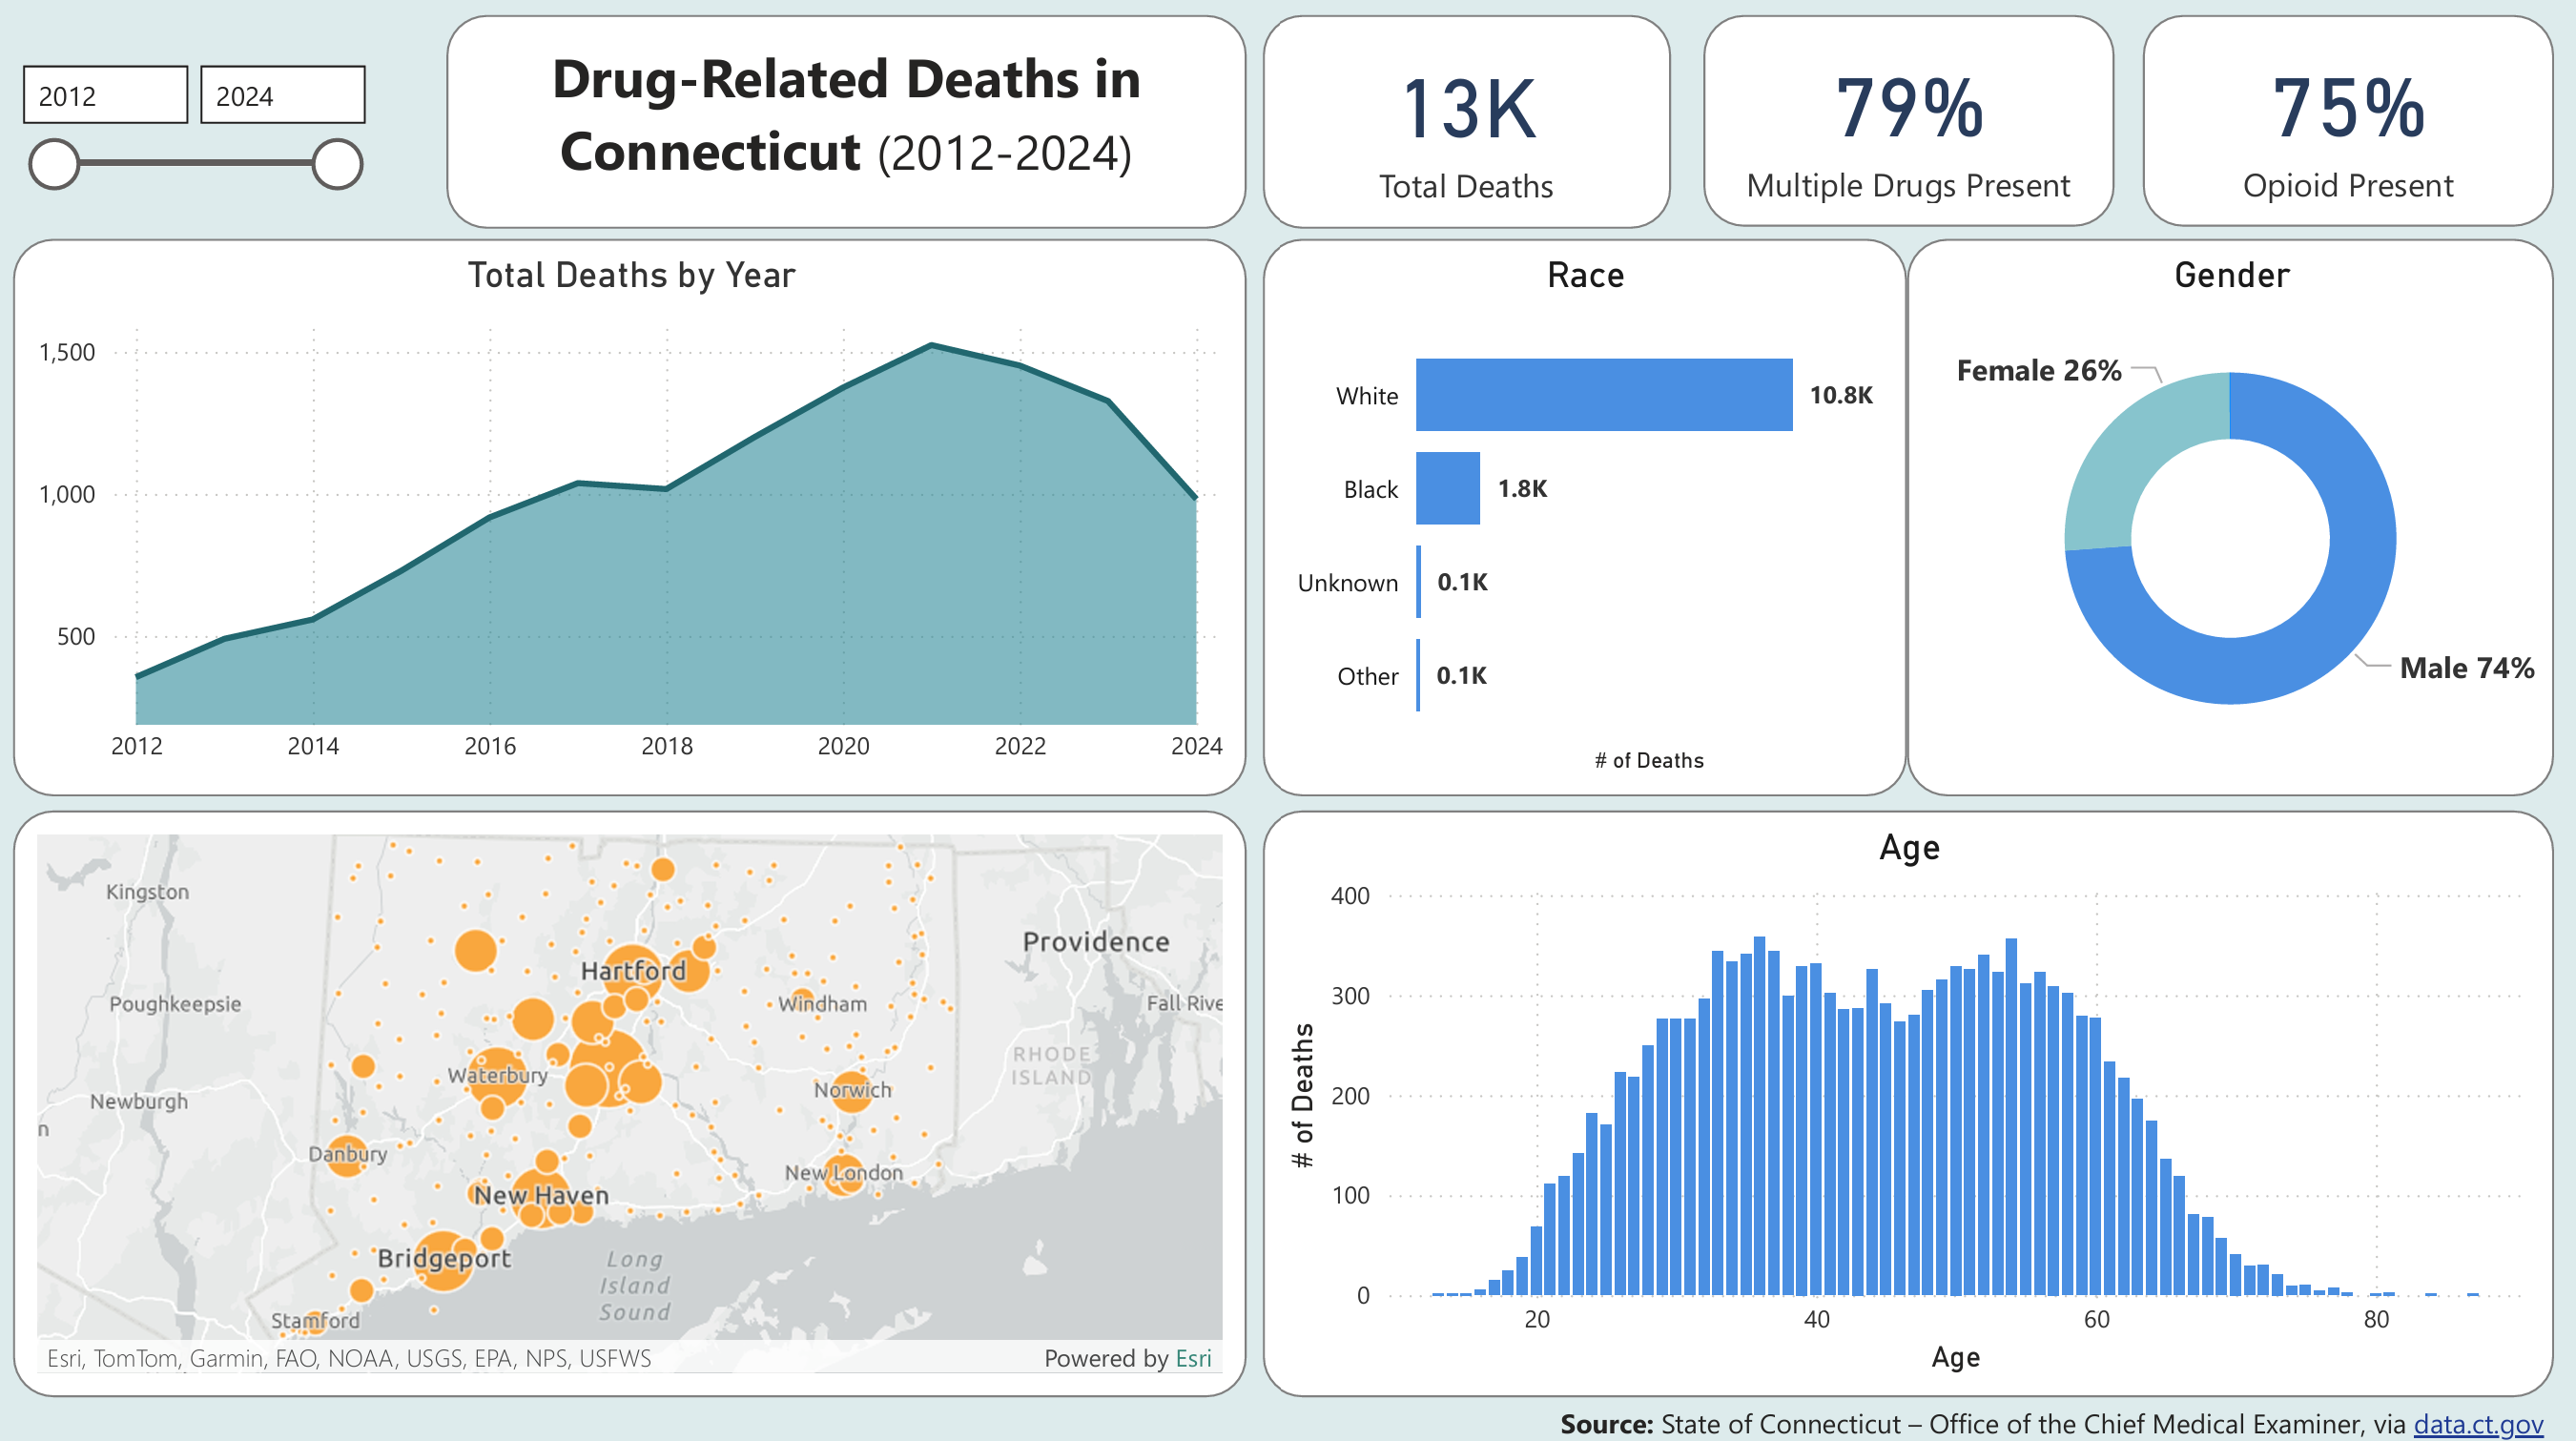

What the dashboard file says about the page in this screenshot:
{"tool":"powerbi","page":{"name":"demographic","canvas":[1280,720],"ordinal":0},"visuals":[{"type":"slicer","fields":{"Values":["bi_drug_related_deaths.date.Variation.Date Hierarchy.Year"]},"box":[0,22.8,190.2,76.4],"z":0},{"type":"donutChart","title":"Gender","fields":{"Category":["bi_drug_related_deaths.sex"],"Y":["CountNonNull(bi_drug_related_deaths.date)"]},"box":[948.3,118.7,320.4,276.5],"z":1000},{"type":"card","fields":{"Values":["CountNonNull(bi_drug_related_deaths.date)"]},"box":[627.8,8.1,203.3,105.7],"z":2000},{"type":"clusteredBarChart","title":"Race","fields":{"Category":["bi_drug_related_deaths.race"],"Y":["CountNonNull(bi_drug_related_deaths.date)"]},"box":[627.8,118.7,320.4,276.5],"z":3000},{"type":"clusteredColumnChart","title":"Age","fields":{"Category":["bi_drug_related_deaths.age"],"Y":["CountNonNull(bi_drug_related_deaths.date)"]},"box":[627.8,401.8,640.9,291.2],"z":4000},{"type":"areaChart","title":"Total Deaths by Year","fields":{"Category":["bi_drug_related_deaths.date.Variation.Date Hierarchy.Year"],"Y":["CountNonNull(bi_drug_related_deaths.date)"]},"box":[8.1,118.7,612,276.5],"z":5000},{"type":"esriVisual","fields":{"Longitude":["bi_drug_related_deaths.death_longitude"],"Latitude":["bi_drug_related_deaths.death_latitude"],"Size":["CountNonNull(bi_drug_related_deaths.date)"]},"box":[8.1,401.8,612,291.2],"z":6000},{"type":"textbox","box":[222.8,8.1,396.9,105.7],"z":7000},{"type":"card","fields":{"Values":["CountNonNull(bi_drug_related_deaths.death_year)","bi_drug_related_deaths.multi_drug_pct"]},"box":[847.4,8.1,203.3,105],"z":8000},{"type":"card","fields":{"Values":["Sum(bi_drug_related_deaths.opioid_any)","CountNonNull(bi_drug_related_deaths.death_year)","bi_drug_related_deaths.yes_opioid"]},"box":[1065.4,8.1,203.3,105],"z":9000},{"type":"textbox","box":[759.6,684.8,509.1,35.8],"z":10000}]}

Visuals, with their boxes in screenshot pixels (x1, y1, x2, y2), scaled from the page's 1280x720 canvas onto the 2576x1441 screenshot:
slicer - bi_drug_related_deaths.date.Variation.Date Hierarchy.Year: (0,46,382,198)
"Gender" donutChart: (1908,237,2553,791)
card - CountNonNull(bi_drug_related_deaths.date): (1264,16,1673,228)
"Race" clusteredBarChart: (1264,237,1908,791)
"Age" clusteredColumnChart: (1264,804,2553,1387)
"Total Deaths by Year" areaChart: (16,237,1248,791)
esriVisual - bi_drug_related_deaths.death_longitude x bi_drug_related_deaths.death_latitude: (16,804,1248,1387)
textbox: (448,16,1247,228)
card - CountNonNull(bi_drug_related_deaths.death_year) x bi_drug_related_deaths.multi_drug_pct: (1705,16,2114,226)
card - Sum(bi_drug_related_deaths.opioid_any) x CountNonNull(bi_drug_related_deaths.death_year): (2144,16,2553,226)
textbox: (1529,1370,2553,1440)
